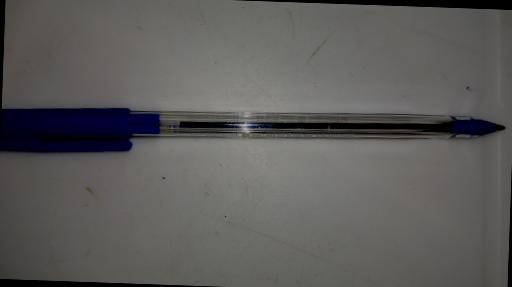pen: (0, 100, 505, 167)
